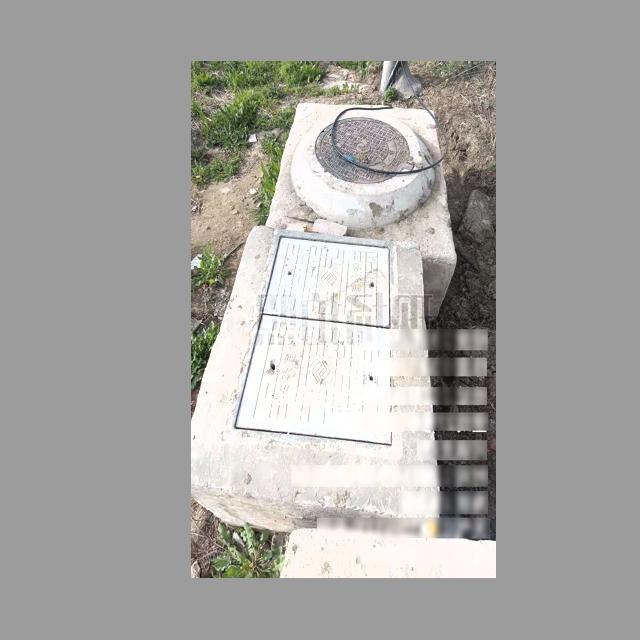good: (225, 229, 398, 451), (316, 117, 416, 184)
